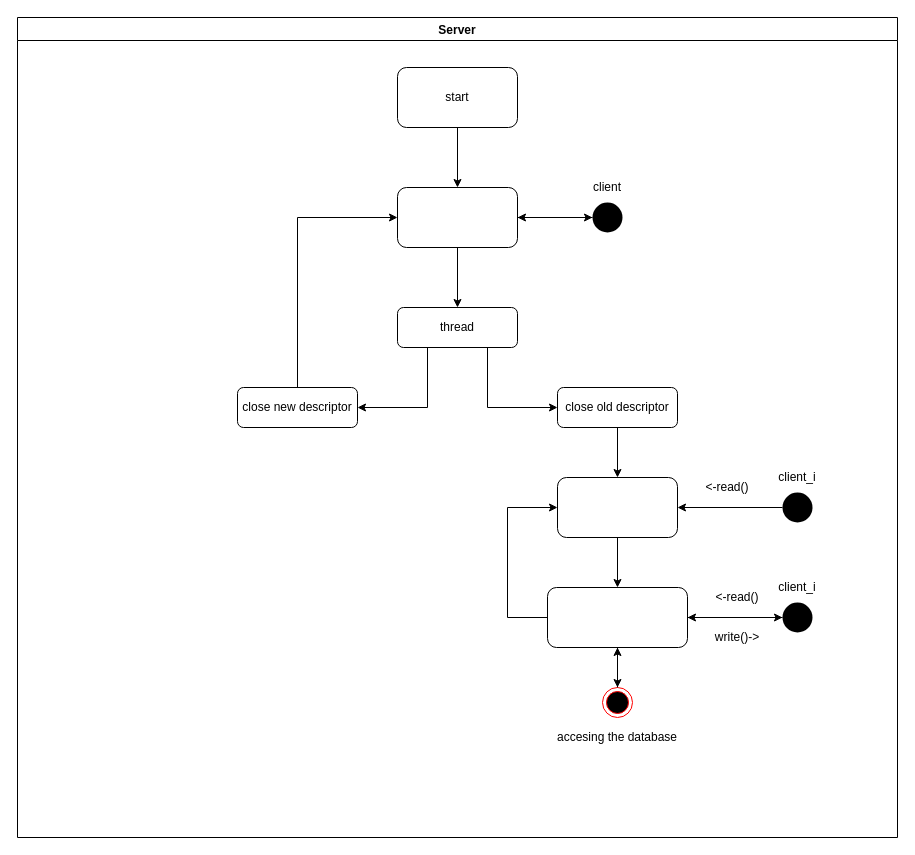
The diagram is 915 pixels wide and 855 high, and some of its shapes have lost their labels. Each missing label, with the centre of its shape:
accept: the point at 457,217
process command: the point at 617,617
waiting: the point at 617,507
